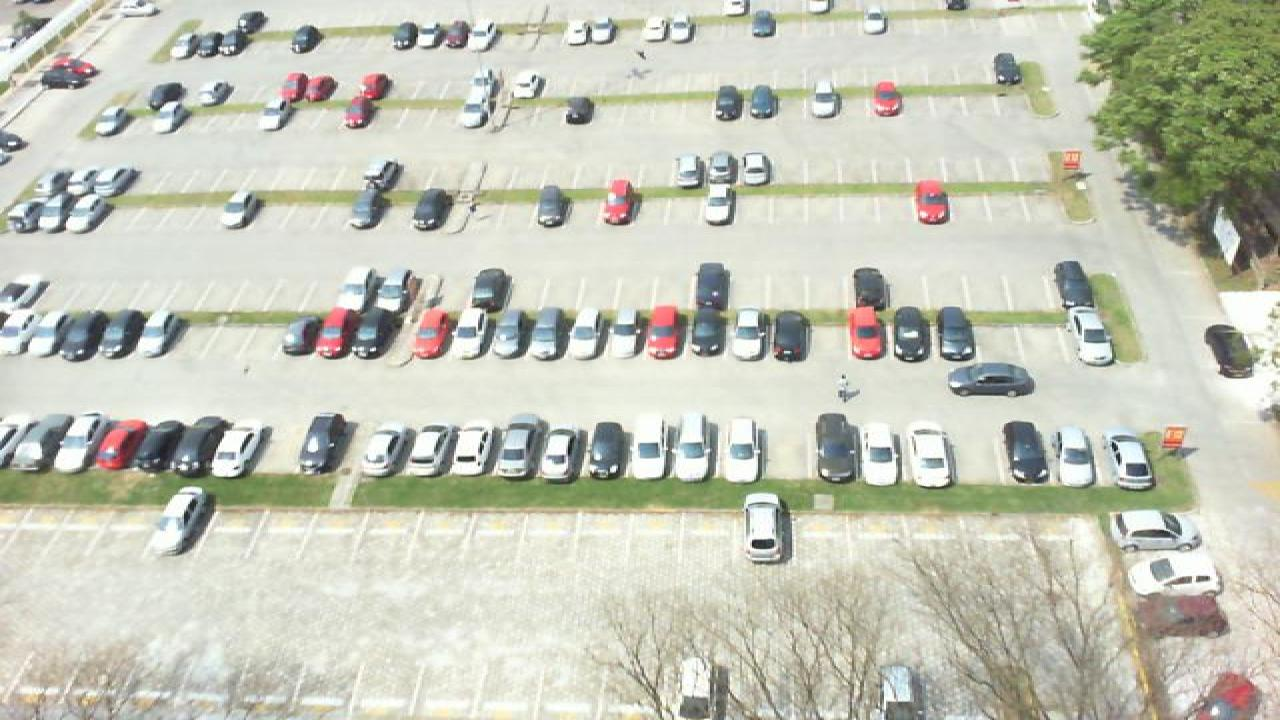Car: (144, 486, 216, 556), (1122, 554, 1226, 598), (1104, 508, 1204, 552), (14, 417, 82, 472), (810, 413, 860, 486), (738, 491, 788, 562), (944, 361, 1036, 398), (904, 423, 956, 488), (668, 412, 714, 485), (1102, 428, 1156, 490), (172, 416, 226, 477), (294, 413, 346, 476), (492, 414, 544, 477), (54, 412, 106, 474), (856, 422, 906, 486), (720, 416, 766, 485), (1064, 307, 1116, 367), (1002, 421, 1050, 485), (626, 423, 676, 484), (212, 426, 268, 480), (1052, 424, 1100, 487), (94, 420, 150, 472), (536, 426, 586, 481), (1204, 323, 1254, 378), (584, 421, 630, 480), (138, 423, 190, 474), (356, 426, 408, 477), (444, 425, 494, 477), (402, 425, 452, 476), (142, 307, 192, 358), (844, 306, 890, 361), (934, 305, 978, 362), (64, 308, 110, 362), (888, 305, 932, 361), (24, 309, 72, 360), (560, 307, 606, 360), (644, 304, 686, 361), (602, 308, 648, 360), (104, 309, 150, 361), (450, 307, 492, 361), (408, 306, 450, 360), (310, 306, 352, 360), (1054, 260, 1096, 312), (688, 308, 730, 360), (488, 308, 530, 360), (348, 308, 390, 360), (728, 309, 770, 360), (0, 307, 40, 360), (770, 310, 810, 362), (596, 178, 640, 225), (690, 262, 730, 313), (368, 266, 412, 312), (528, 307, 564, 361), (406, 187, 450, 231), (468, 268, 510, 312), (278, 314, 320, 358), (912, 179, 952, 225), (0, 416, 34, 468), (334, 271, 376, 313), (850, 266, 890, 310), (58, 192, 100, 233), (532, 184, 570, 228), (348, 186, 386, 229), (702, 181, 738, 226), (218, 188, 256, 229), (806, 80, 844, 118), (28, 193, 64, 233), (360, 158, 400, 192), (746, 86, 782, 121), (870, 80, 904, 117), (714, 84, 748, 121), (68, 165, 106, 198), (2, 198, 38, 232), (458, 94, 494, 128), (98, 164, 136, 196), (92, 103, 130, 135), (704, 152, 738, 187), (470, 68, 504, 103), (36, 170, 76, 199), (738, 152, 772, 186), (672, 153, 706, 186), (154, 101, 188, 134), (342, 98, 378, 129), (146, 81, 184, 110), (990, 52, 1022, 86), (260, 100, 294, 131), (512, 71, 548, 100), (564, 94, 596, 125), (280, 72, 310, 105), (358, 72, 390, 102), (390, 20, 420, 52), (440, 19, 470, 50), (860, 4, 890, 35), (290, 25, 322, 54), (666, 12, 696, 42), (236, 10, 268, 37), (168, 30, 198, 58), (470, 17, 498, 47), (590, 16, 620, 44), (640, 14, 670, 42), (750, 9, 778, 38), (308, 75, 338, 102), (192, 30, 222, 57), (564, 17, 594, 44), (414, 22, 444, 48), (220, 28, 248, 55)
